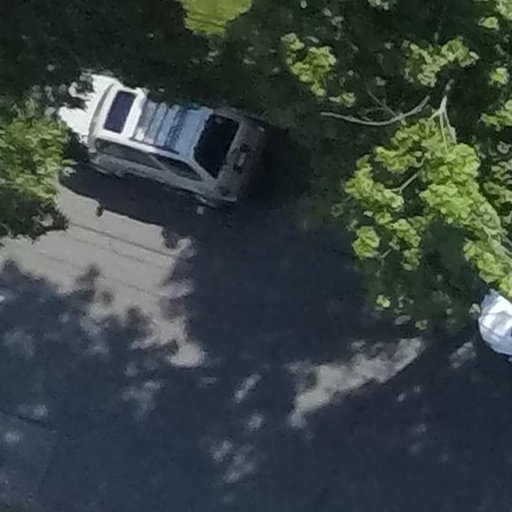car: (41, 53, 285, 235)
